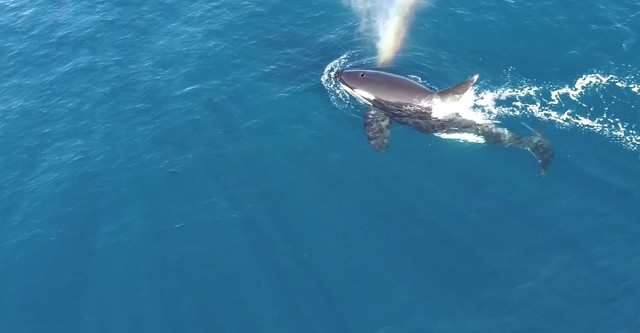whale: (321, 61, 563, 182)
